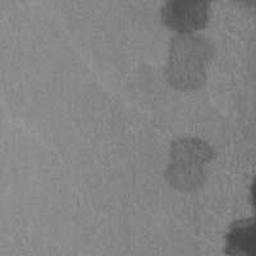Oil spot: (118, 0, 221, 110), (161, 133, 220, 195), (221, 172, 256, 256), (230, 0, 256, 17)
